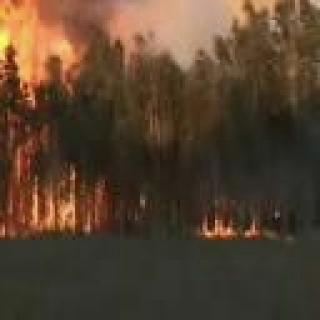fire: (0, 0, 125, 234), (196, 200, 269, 236)
